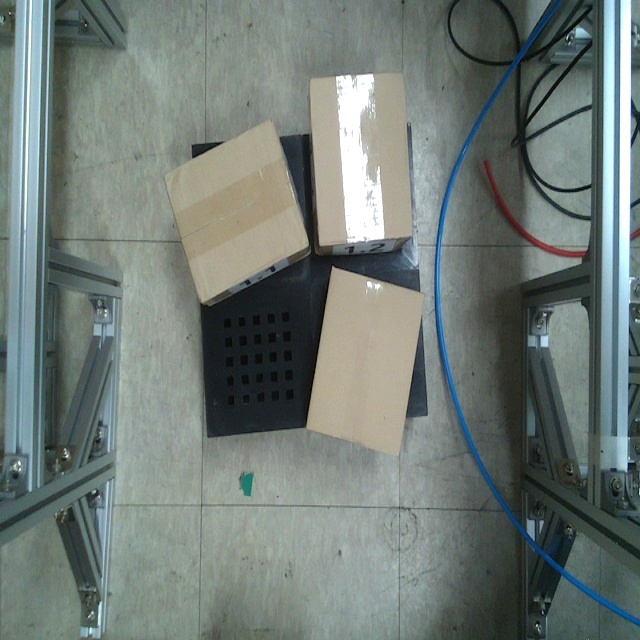box: (163, 118, 310, 306), (305, 266, 426, 457), (309, 71, 415, 247)
